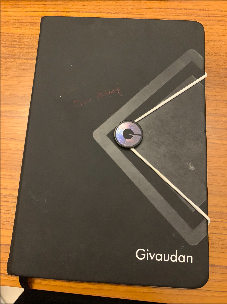object_name: (19, 19, 214, 295)
